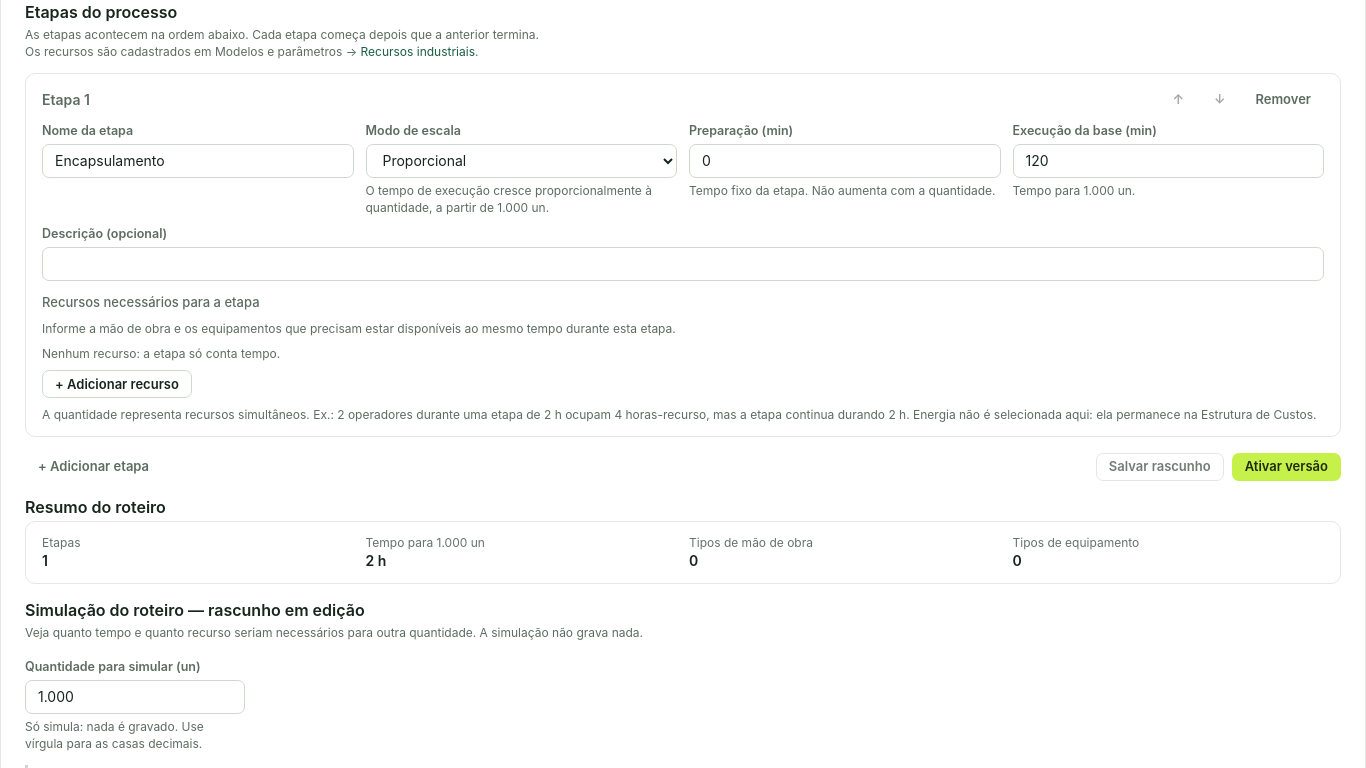
Scenario: Recurso da etapa — busca no servidor › abre com a primeira página de cada tipo de capacidade — 20 + 20 — e o resto se alcança buscando
This screenshot has width=1366, height=768.
(page scrolled)
Click the button "+ Adicionar recurso" at (117, 384), box [42,370,192,398]
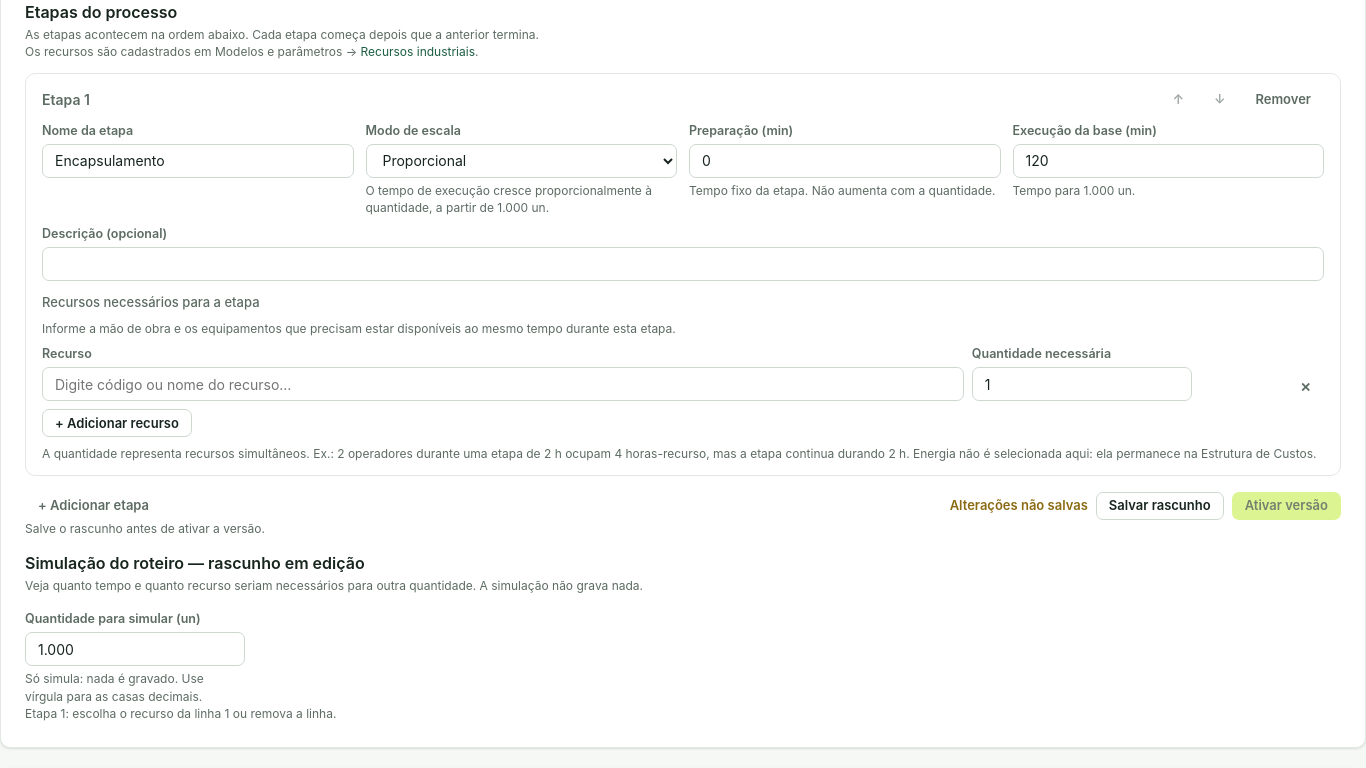
Focus the dropdown labelled "Recurso" at (503, 384), box [42,367,964,401]
(page scrolled)
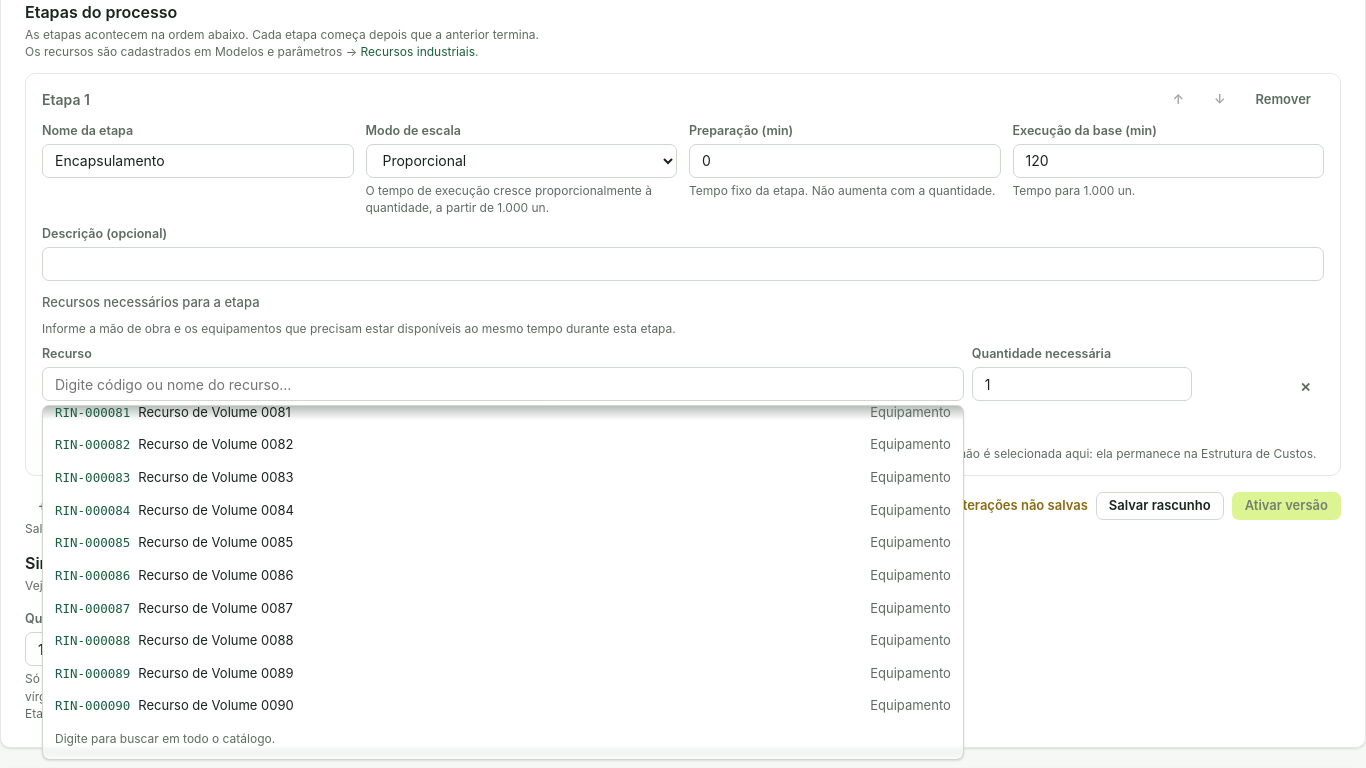
Check: the list item "Digite para buscar em todo o catálogo." is shown, box [55,731,275,746]
